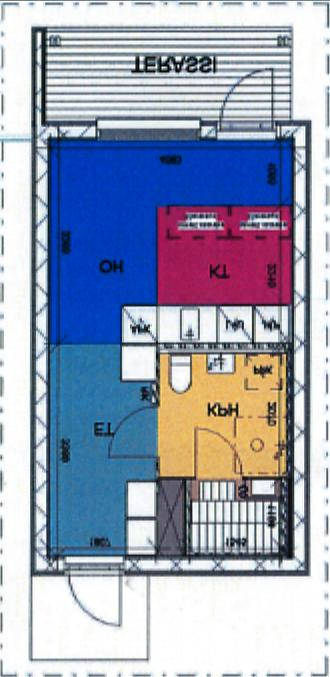bathroom: (159, 354, 286, 475)
door: (61, 553, 128, 626), (217, 66, 280, 136), (103, 403, 164, 463), (190, 429, 243, 482)
perimeter: (33, 119, 312, 574)
window: (87, 118, 210, 142)
